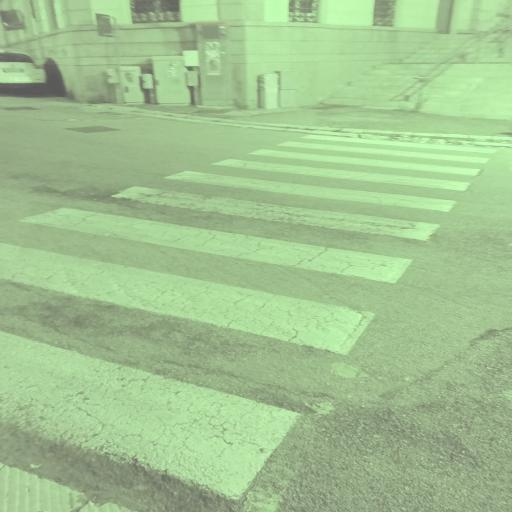crosswalk: (1, 230, 388, 511), (210, 147, 487, 194)
